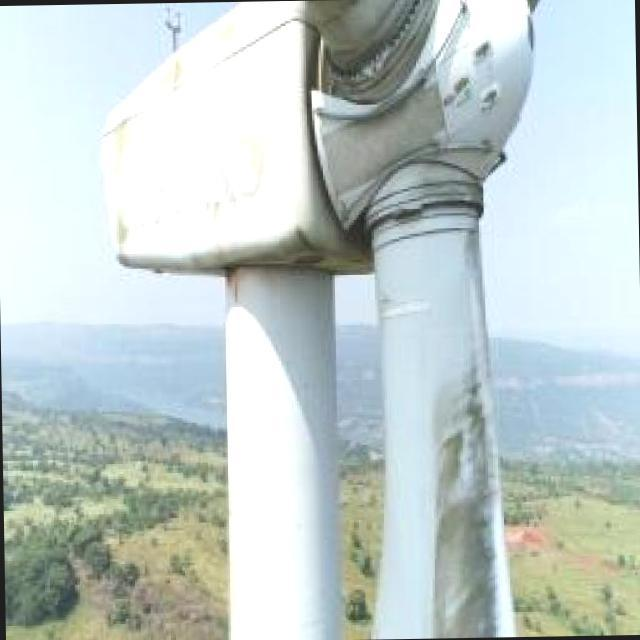Dirt: (423, 337, 506, 640)
